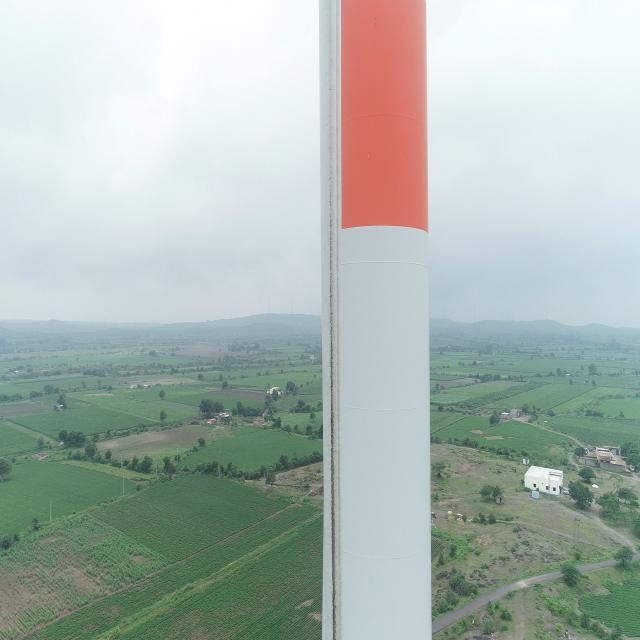Erosion: (314, 0, 345, 640)
